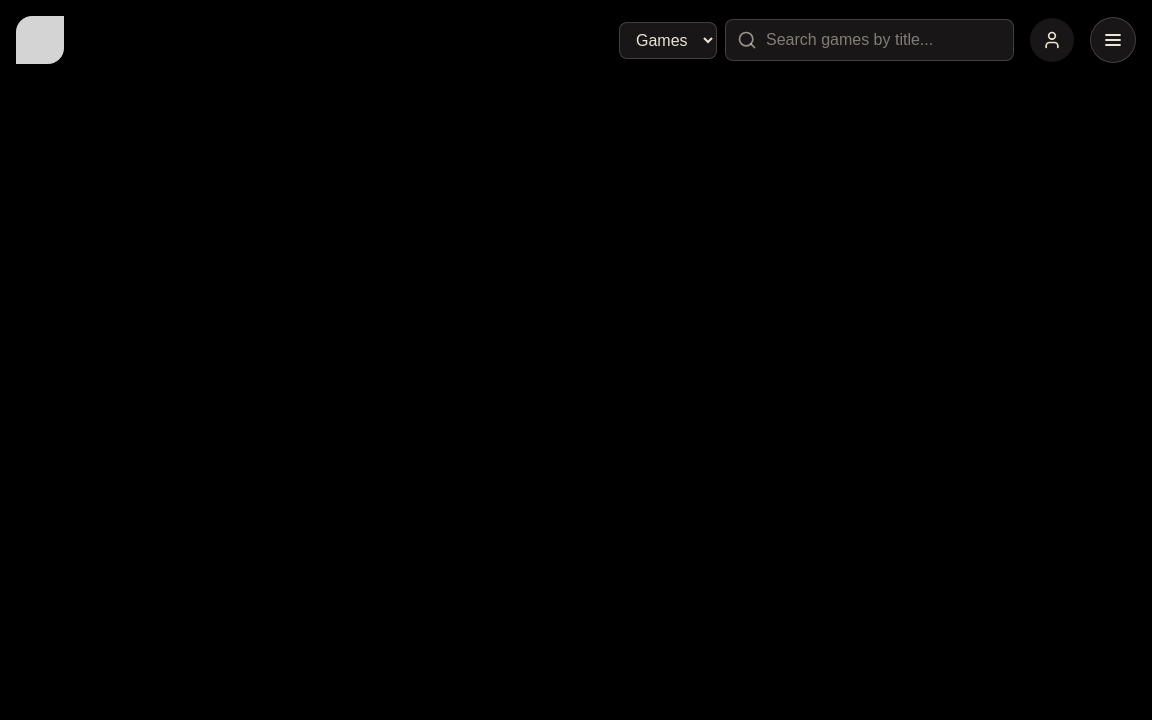
Test: NavigationBar › shows authenticated links when user logged in
This screenshot has width=1152, height=720.
Click the button named "Open menu" at {"x": 1113, "y": 40}, box [1090, 17, 1136, 63]
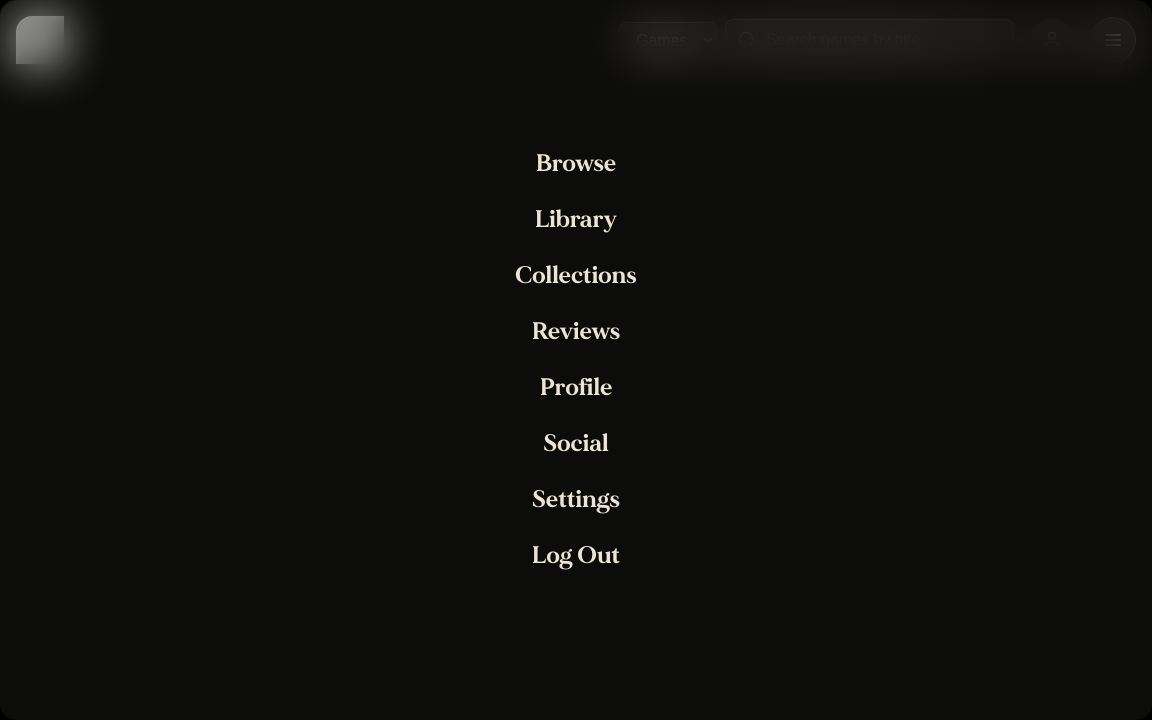
Result: the menu item "Browse" is shown at [536, 148, 616, 180]
Result: the menu item "Library" is shown at [535, 204, 617, 236]
Result: the menu item "Profile" is shown at [540, 372, 612, 404]
